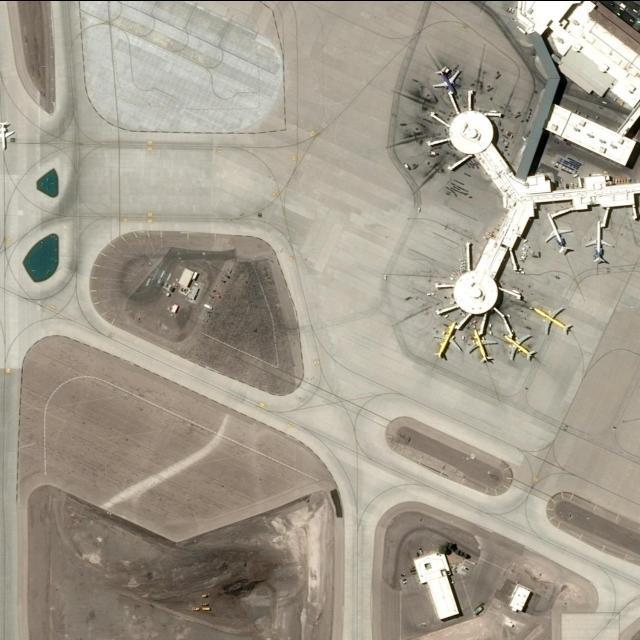Aircraft: (586, 220, 614, 264), (434, 321, 464, 361), (545, 213, 575, 253), (532, 306, 573, 335), (468, 328, 498, 364), (504, 332, 538, 362), (433, 65, 463, 95)
